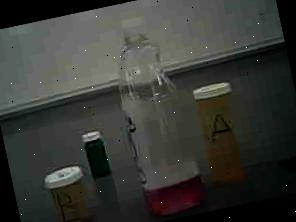Bottle A: (190, 80, 252, 196)
Bottle B: (41, 164, 95, 222)
Bottle C: (79, 127, 116, 184)
hazard: (92, 0, 212, 221)
